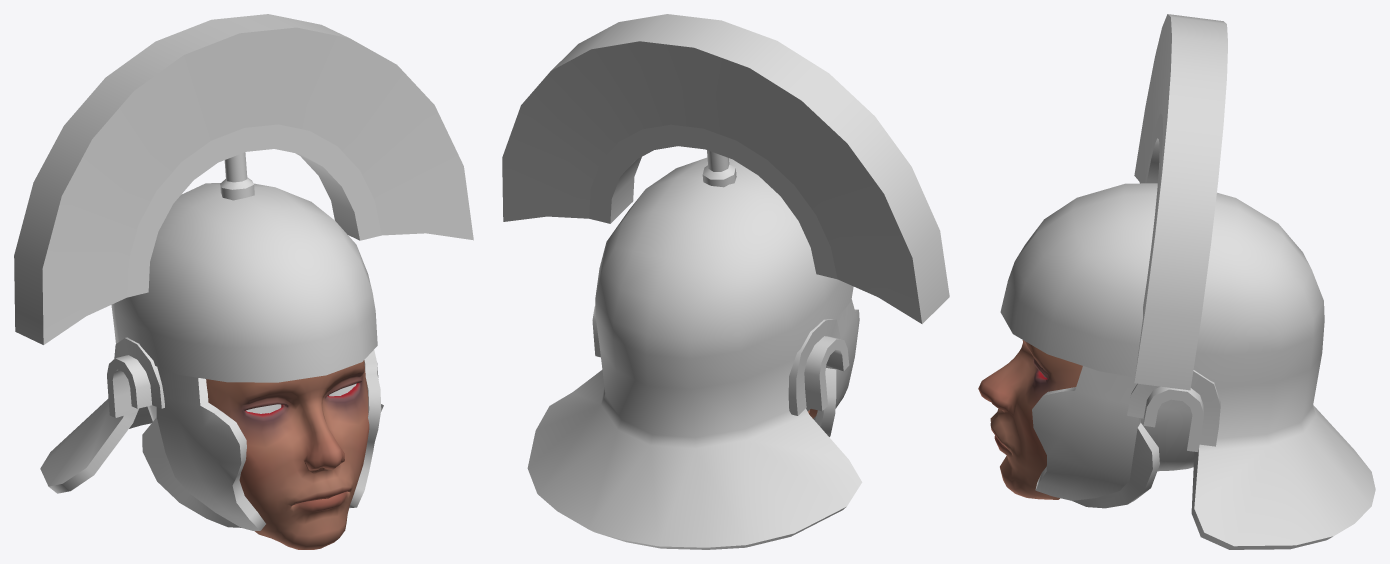
Rendered from LOOT_Roman_Helmet_1_GD.fbx.
3 views of the same model, side by side, from view 1: azimuth 30°, elevation 25°; view 2: azimuth 150°, elevation 25°; view 3: azimuth 270°, elevation 25° (orthographic). The views are drawn at different scales.
Visible parts, largest first — view 1: LOOT_Roman_Helmet_1_GD; view 2: LOOT_Roman_Helmet_1_GD; view 3: LOOT_Roman_Helmet_1_GD.
Boxes of the visible parts, bbox=[...] form: LOOT_Roman_Helmet_1_GD: bbox=[14, 14, 473, 549]; LOOT_Roman_Helmet_1_GD: bbox=[502, 14, 949, 549]; LOOT_Roman_Helmet_1_GD: bbox=[978, 14, 1375, 549].
Size of the model in its own units: 44.04 by 45.38 by 35.64.
